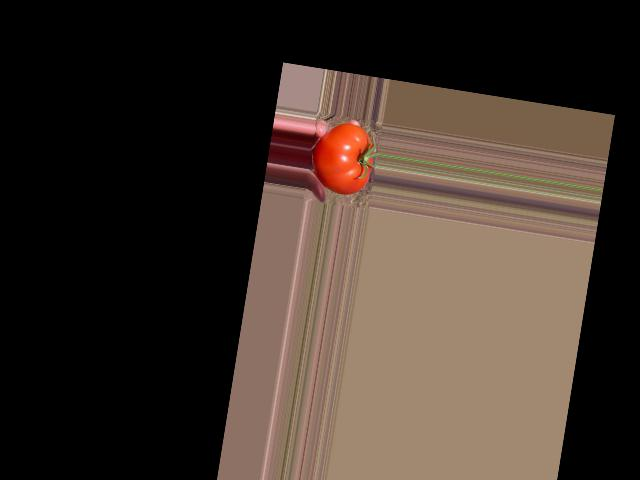tomato: (307, 118, 378, 196)
